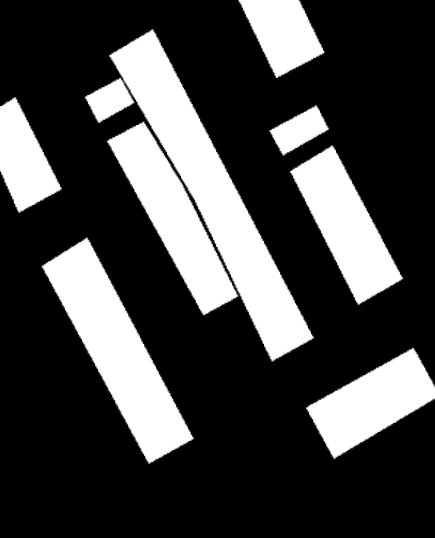parkingspot: (85, 29, 314, 361), (42, 238, 194, 464), (107, 122, 238, 315), (290, 145, 403, 305), (306, 348, 435, 459), (0, 97, 62, 213), (238, 0, 324, 78), (270, 105, 329, 156), (122, 80, 125, 83)
